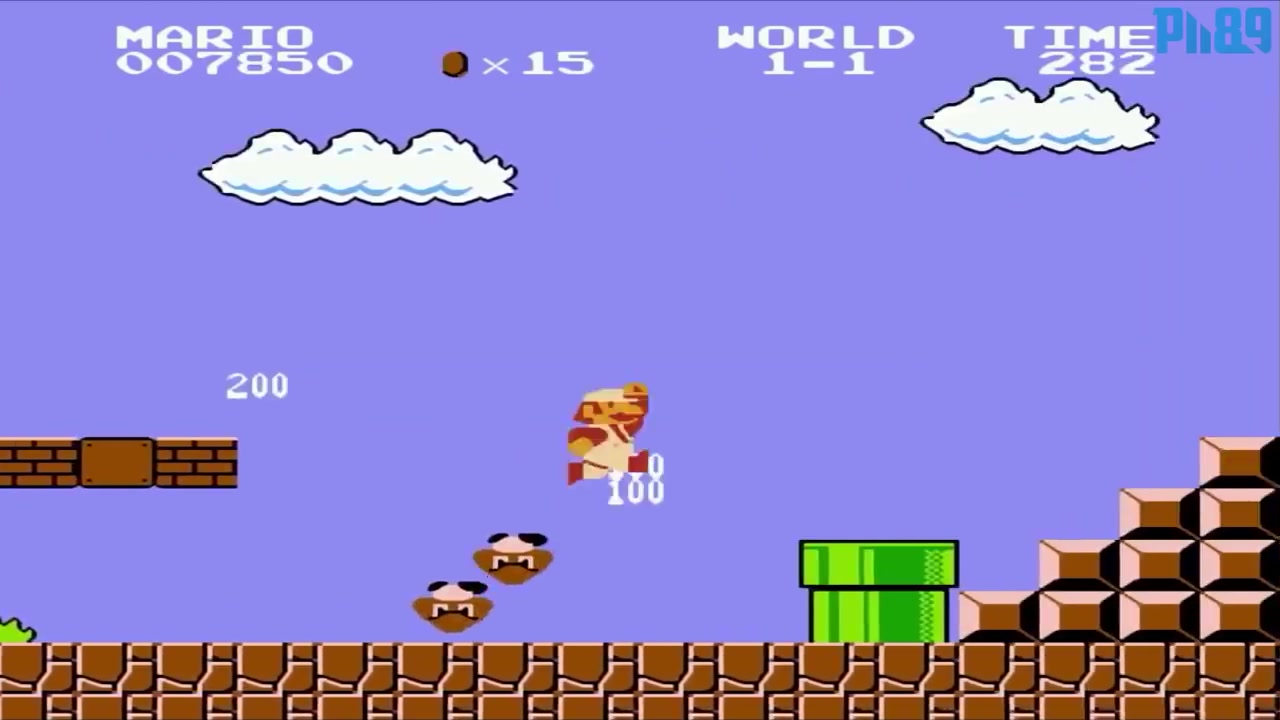mario: (546, 361, 670, 491)
